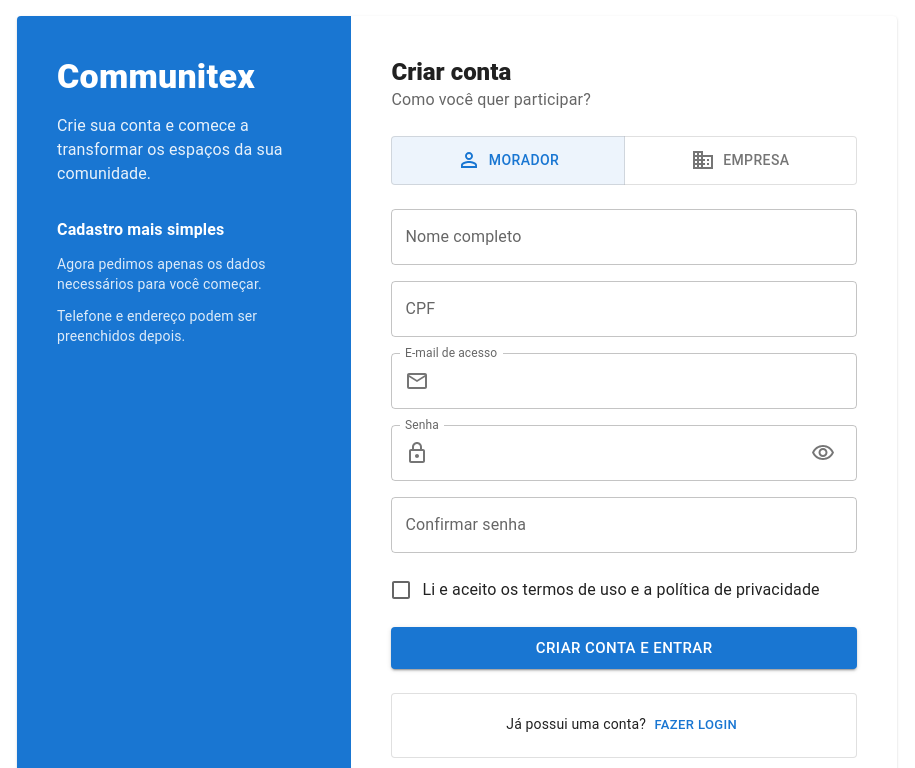
starts as morador and switches to company-specific fields
Expected: the field labelled "Nome completo" is shown, [391, 208, 857, 264]
What coordinates should you click on to do the following:
click the button "Empresa"
I would click on:
 (740, 160)
Its box is [624, 136, 857, 184].
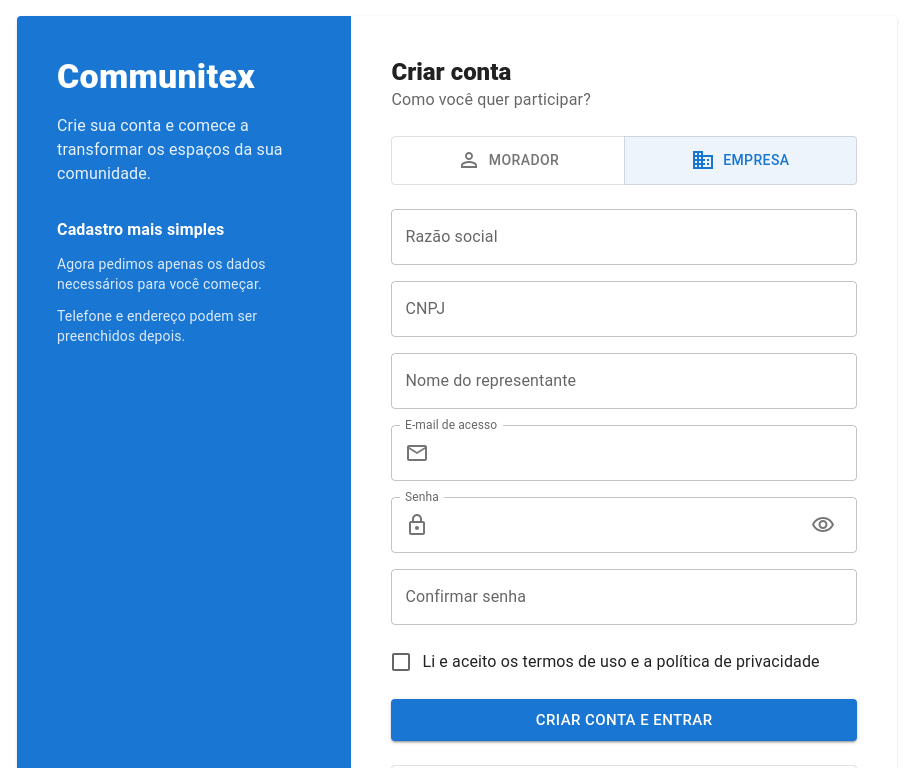
Expected: the field labelled "Razão social" is shown, [391, 208, 857, 264]
Now the label labelled "Nome completo" is gone
Now the field labelled "CNPJ" is shown, box [391, 280, 857, 336]
